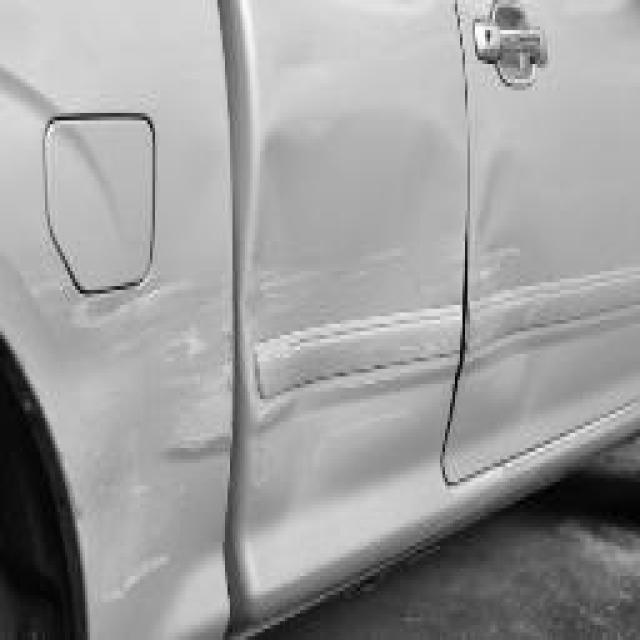Door: (242, 241, 452, 482), (455, 166, 575, 452)
Fender: (8, 252, 228, 625)
